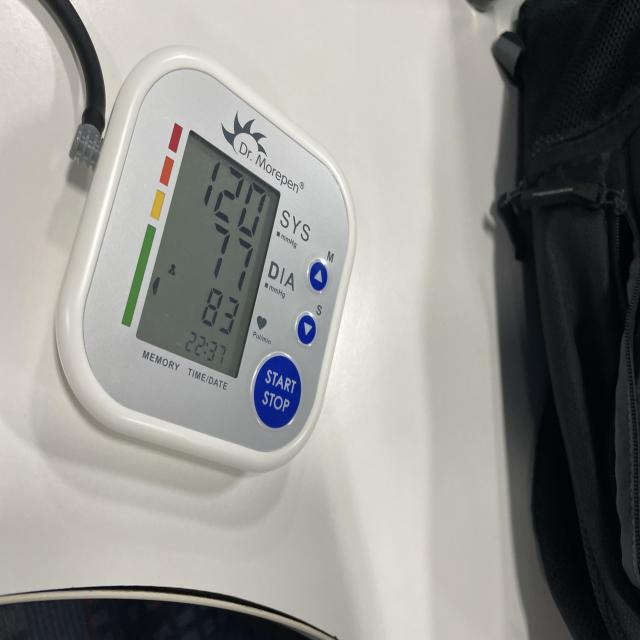bp: (50, 48, 355, 483)
